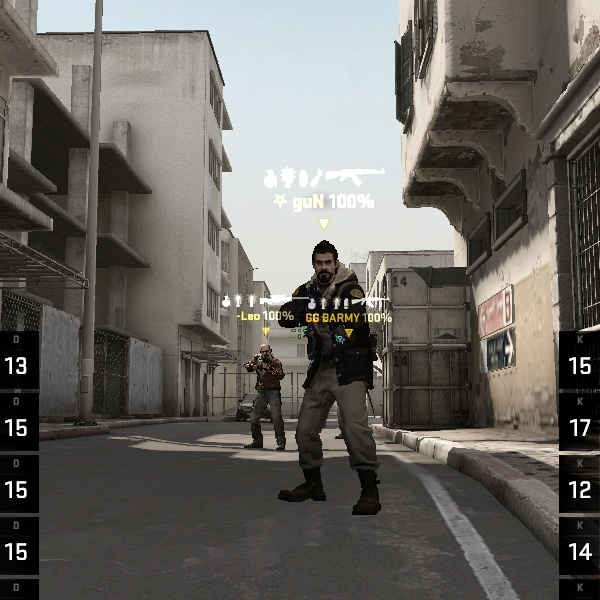t_body: (233, 341, 296, 454)
